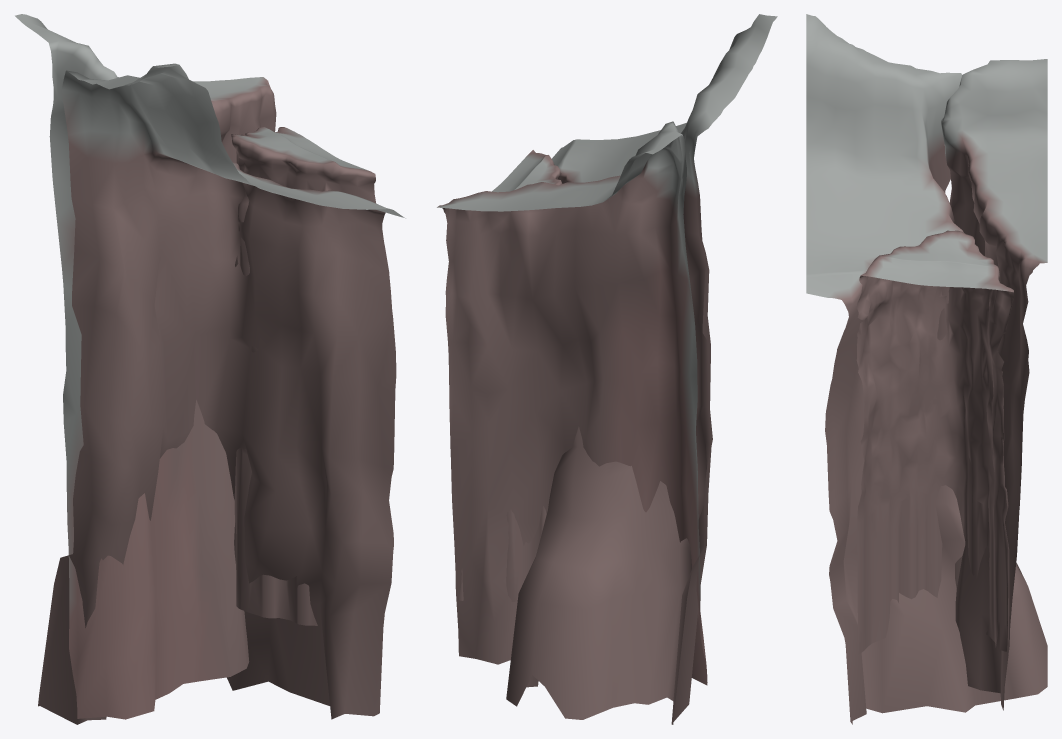
3 renders of one model, left to right at view 1: azimuth 30°, elevation 25°; view 2: azimuth 150°, elevation 25°; view 3: azimuth 270°, elevation 25°, orthographic. The views are drawn at different scales.
Visible parts, largest first — view 1: G:\FFXIV-MapTools\exports\u5f1\bg\ex4\04_uvs_u5\fld\u5f1\bgp (×12); view 2: G:\FFXIV-MapTools\exports\u5f1\bg\ex4\04_uvs_u5\fld\u5f1\bgp (×13); view 3: G:\FFXIV-MapTools\exports\u5f1\bg\ex4\04_uvs_u5\fld\u5f1\bgp (×14).
Part boxes in pixels (box(x1,y1,x2,y2)): G:\FFXIV-MapTools\exports\u5f1\bg\ex4\04_uvs_u5\fld\u5f1\bgp (×12): box(15, 14, 396, 724); G:\FFXIV-MapTools\exports\u5f1\bg\ex4\04_uvs_u5\fld\u5f1\bgp (×13): box(437, 14, 777, 724); G:\FFXIV-MapTools\exports\u5f1\bg\ex4\04_uvs_u5\fld\u5f1\bgp (×14): box(806, 14, 1047, 724).
Bounding box in the file's own units: 128 × 363 × 128.
